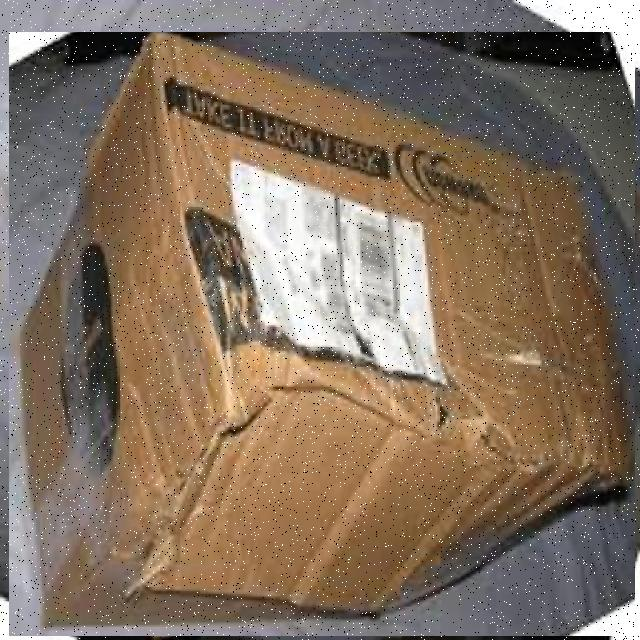defect: (9, 32, 636, 636)
